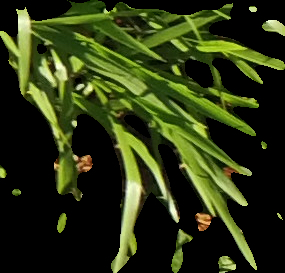grass: (1, 1, 284, 271)
